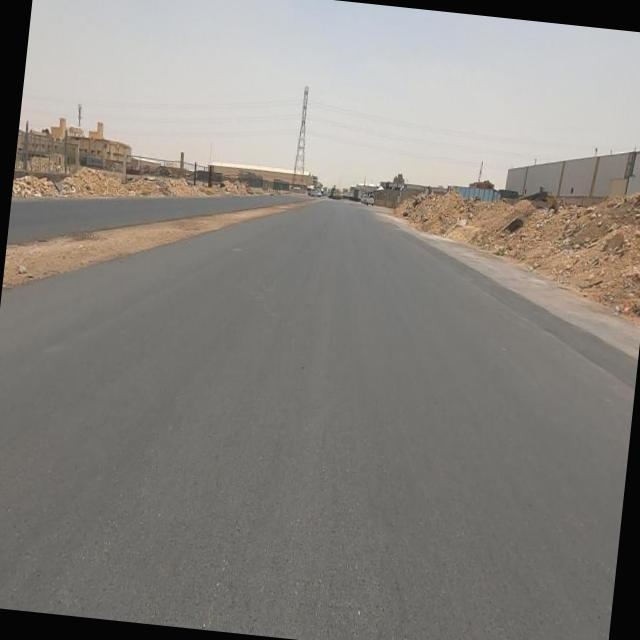debris: (482, 186, 546, 266), (382, 180, 427, 242), (404, 178, 429, 223)
